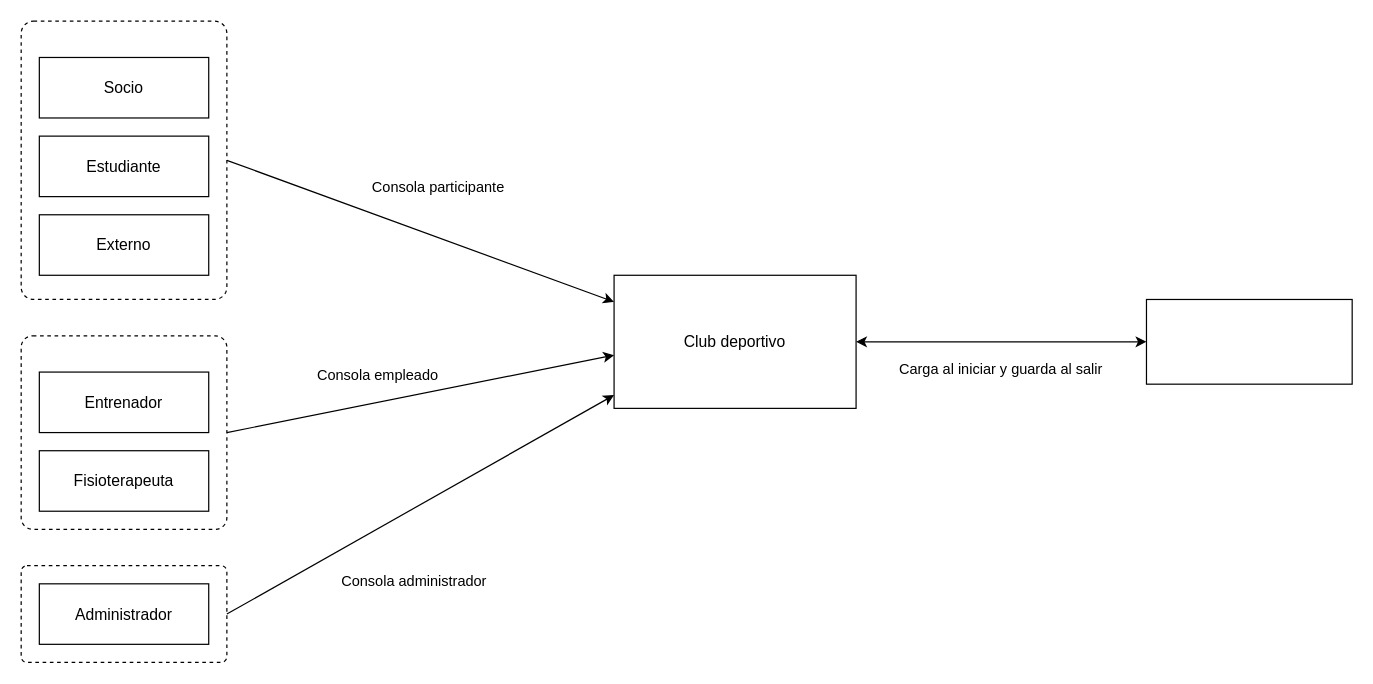
Some shapes in this 1373 by 684 pixel diagram are drawn without their labels. Here are the shapes that lost their labels. From the top down, the box of each, then its label:
(20, 20, 227, 299): Participantes
(1145, 298, 1352, 384): Archivos de texto (carpeta datos)
(20, 335, 227, 529): Empleados
